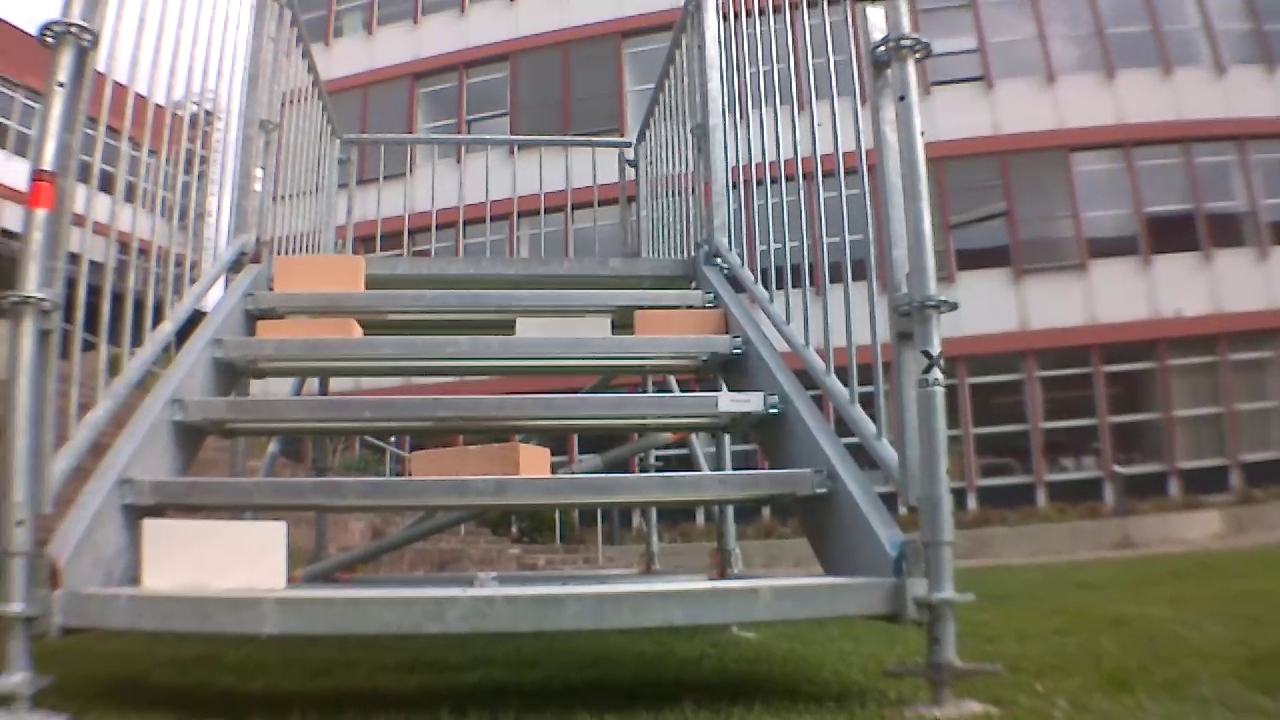brick: (142, 518, 286, 589), (409, 443, 549, 477), (274, 255, 365, 290), (634, 309, 723, 336), (255, 317, 362, 337), (515, 316, 610, 336)
edge: (65, 576, 898, 631), (122, 469, 830, 505), (170, 392, 783, 418), (209, 335, 751, 356), (266, 256, 695, 274), (245, 290, 717, 306)
stairs: (6, 2, 959, 717)
steps: (51, 246, 903, 641)
